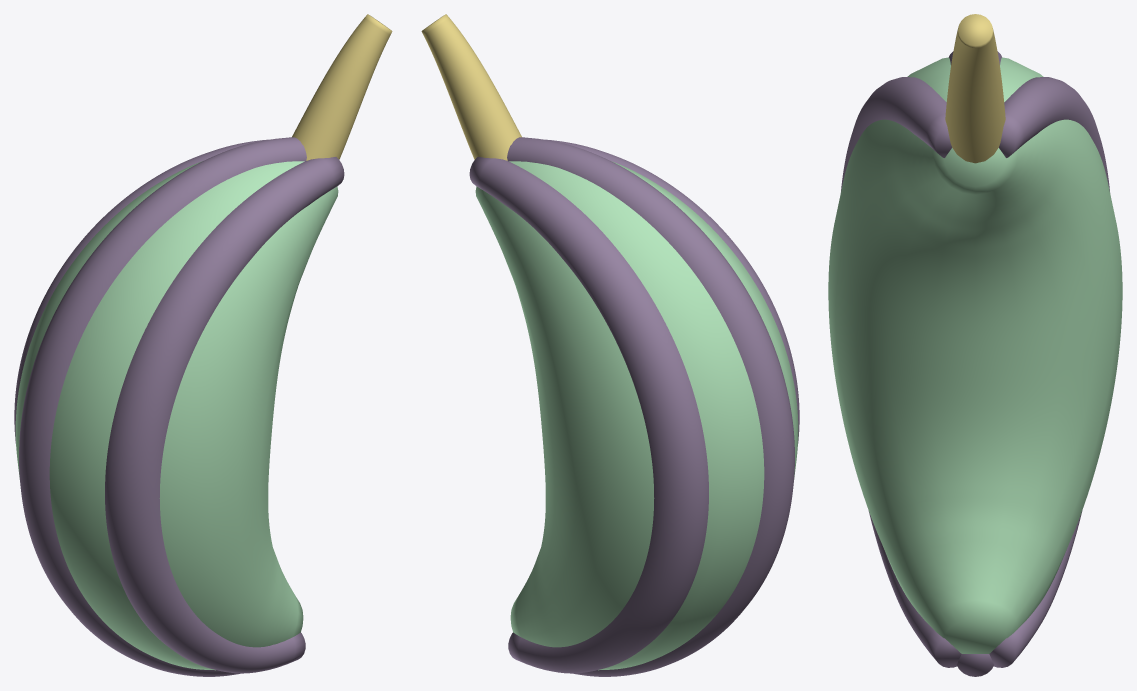
The model's file is one-collectible-moonfruit-for-a-whimsical-moon.glb.
3 renders of one model, left to right at view 1: azimuth 30°, elevation 25°; view 2: azimuth 150°, elevation 25°; view 3: azimuth 270°, elevation 25°, orthographic. The views are drawn at different scales.
Visible parts, largest first — view 1: fruit_body, plum_ridges, brass_stem; view 2: fruit_body, plum_ridges, brass_stem; view 3: fruit_body, plum_ridges, brass_stem.
Part boxes in pixels (left/top/right/bottom): fruit_body: left=15, top=161, right=338, bottom=670; plum_ridges: left=14, top=137, right=344, bottom=676; brass_stem: left=292, top=14, right=392, bottom=160; fruit_body: left=475, top=161, right=798, bottom=670; plum_ridges: left=469, top=137, right=799, bottom=676; brass_stem: left=421, top=14, right=521, bottom=160; fruit_body: left=828, top=57, right=1122, bottom=653; plum_ridges: left=841, top=51, right=1109, bottom=676; brass_stem: left=945, top=14, right=1005, bottom=163.
Bounding box in the file's own units: 1.23 × 2 × 0.746.
